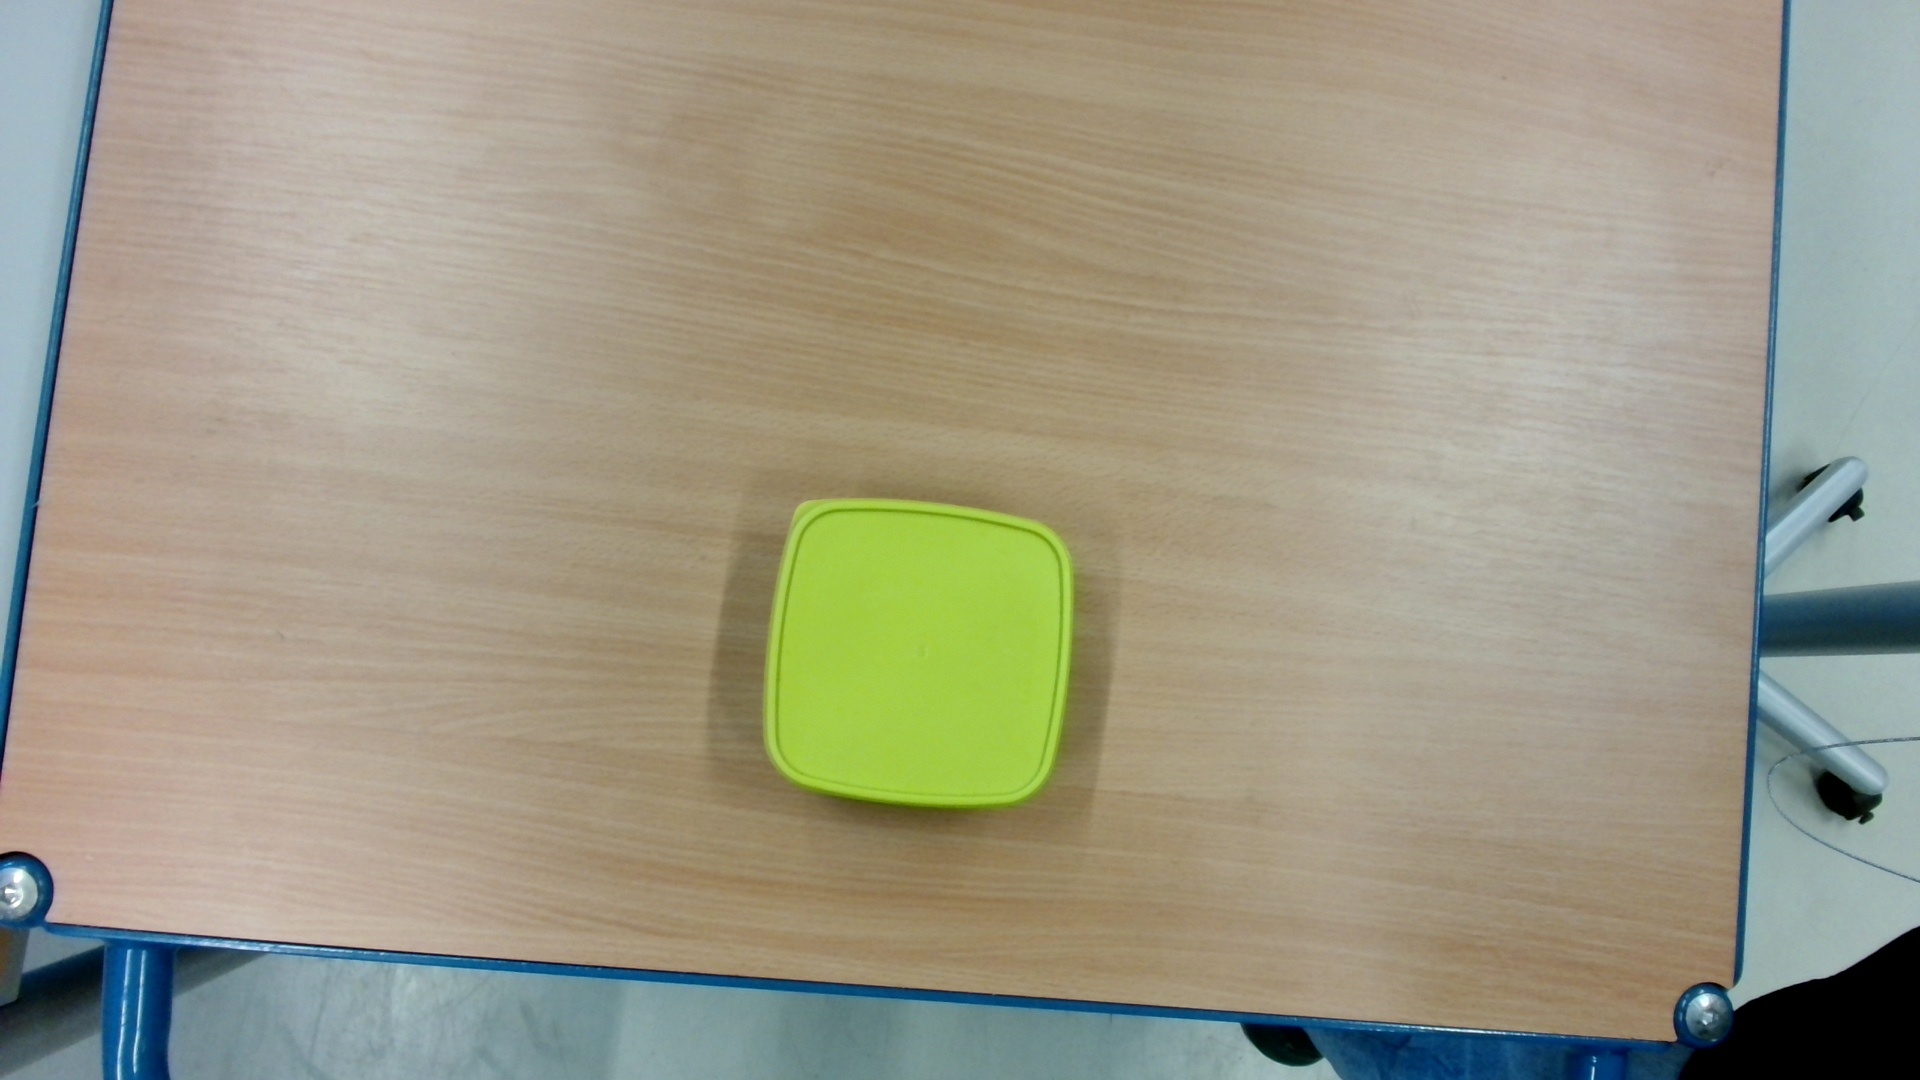Box: (753, 487, 1088, 829)
